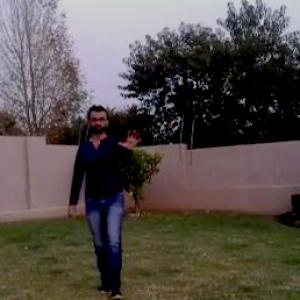follow_hand: (117, 124, 146, 154)
